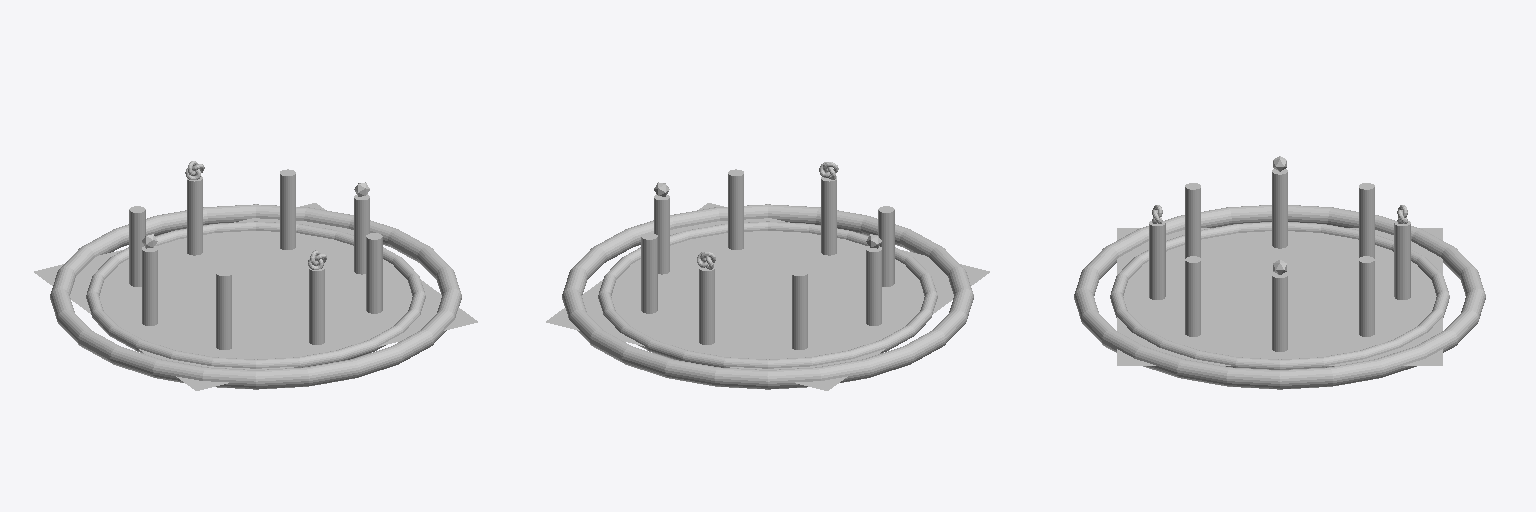
File: stage2.obj
3 views of the same model, side by side, from view 1: azimuth 30°, elevation 25°; view 2: azimuth 150°, elevation 25°; view 3: azimuth 270°, elevation 25° (orthographic).
Parts seen in each view (by area): view 1: Plane, Torus1, Torus, Cylinder5, Cylinder7, Cylinder4, Cylinder1, Cylinder3, Cylinder2, Cylinder6, Cylinder; view 2: Plane, Torus1, Torus, Cylinder7, Cylinder5, Cylinder6, Cylinder1, Cylinder2, Cylinder3, Cylinder4, Cylinder; view 3: Plane, Torus1, Torus, Cylinder2, Cylinder3, Cylinder7, Cylinder5, Cylinder, Cylinder1, Cylinder6, Cylinder4.
Part boxes in pixels (bbox=[...]): Plane: bbox=[34, 203, 477, 390]; Torus1: bbox=[50, 204, 461, 389]; Torus: bbox=[86, 221, 425, 368]; Cylinder5: bbox=[366, 233, 382, 313]; Cylinder7: bbox=[280, 169, 295, 249]; Cylinder4: bbox=[216, 270, 231, 349]; Cylinder1: bbox=[142, 246, 157, 325]; Cylinder3: bbox=[187, 176, 202, 255]; Cylinder2: bbox=[309, 266, 324, 344]; Cylinder6: bbox=[129, 206, 145, 286]; Cylinder: bbox=[354, 194, 369, 274]; Plane: bbox=[546, 203, 989, 390]; Torus1: bbox=[562, 204, 973, 389]; Torus: bbox=[598, 221, 937, 368]; Cylinder7: bbox=[641, 233, 657, 313]; Cylinder5: bbox=[728, 169, 743, 249]; Cylinder6: bbox=[792, 270, 807, 349]; Cylinder1: bbox=[866, 246, 881, 325]; Cylinder2: bbox=[821, 176, 836, 255]; Cylinder3: bbox=[699, 266, 714, 344]; Cylinder4: bbox=[878, 206, 894, 286]; Cylinder: bbox=[654, 194, 669, 274]; Plane: bbox=[1117, 228, 1442, 365]; Torus1: bbox=[1074, 205, 1485, 389]; Torus: bbox=[1110, 222, 1449, 369]; Cylinder2: bbox=[1149, 221, 1165, 299]; Cylinder3: bbox=[1394, 221, 1410, 299]; Cylinder7: bbox=[1359, 256, 1374, 336]; Cylinder5: bbox=[1185, 256, 1200, 336]; Cylinder: bbox=[1272, 272, 1287, 351]; Cylinder1: bbox=[1272, 169, 1287, 248]; Cylinder6: bbox=[1359, 183, 1374, 258]; Cylinder4: bbox=[1185, 183, 1200, 258].
Size of the model in its own units: 25.2 by 6.74 by 25.2.